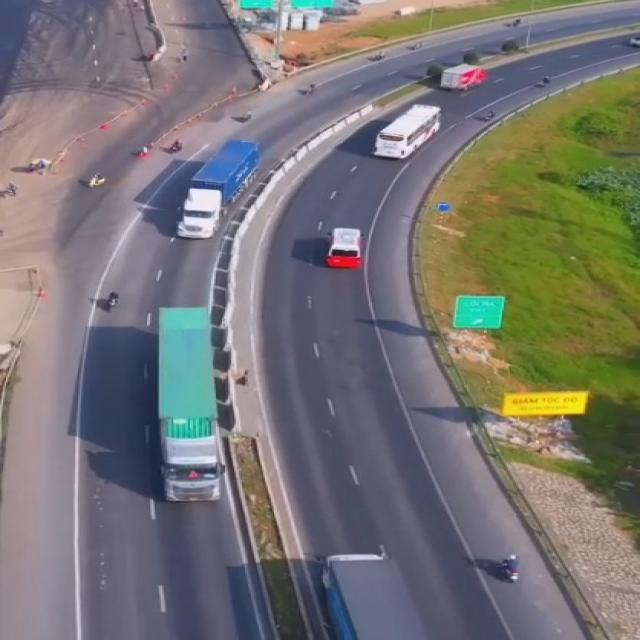bus: (374, 104, 443, 163), (320, 225, 365, 270)
motorbike: (496, 552, 520, 586), (107, 290, 120, 310)
truck: (156, 304, 220, 504), (320, 550, 425, 640), (174, 139, 257, 241), (440, 62, 494, 90)
